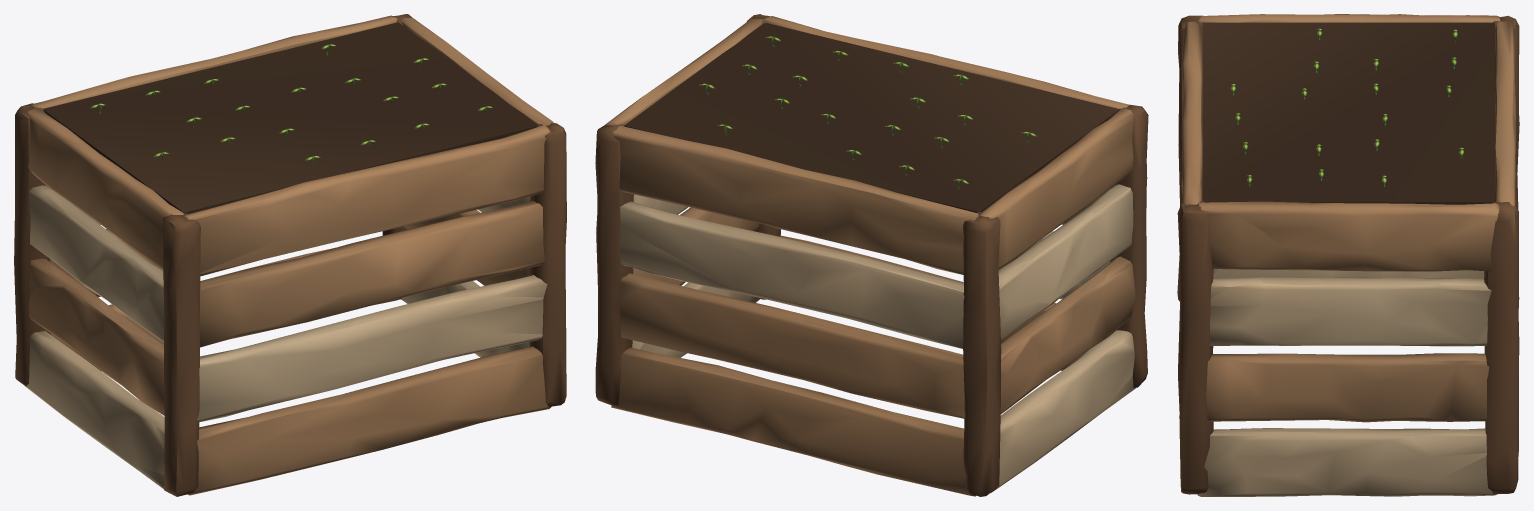
The model's file is canopy_planter_box_lod1.glb.
3 views of the same model, side by side, from view 1: azimuth 30°, elevation 25°; view 2: azimuth 150°, elevation 25°; view 3: azimuth 270°, elevation 25° (orthographic). The views are drawn at different scales.
Visible parts, largest first — view 1: canopy_planter_box.001; view 2: canopy_planter_box.001; view 3: canopy_planter_box.001.
Part boxes in pixels (x1,y1,x2,y2): canopy_planter_box.001: [14, 14, 566, 496]; canopy_planter_box.001: [595, 14, 1148, 496]; canopy_planter_box.001: [1177, 14, 1519, 496].
Size of the model in its own units: 14.31 by 10.01 by 10.3.
